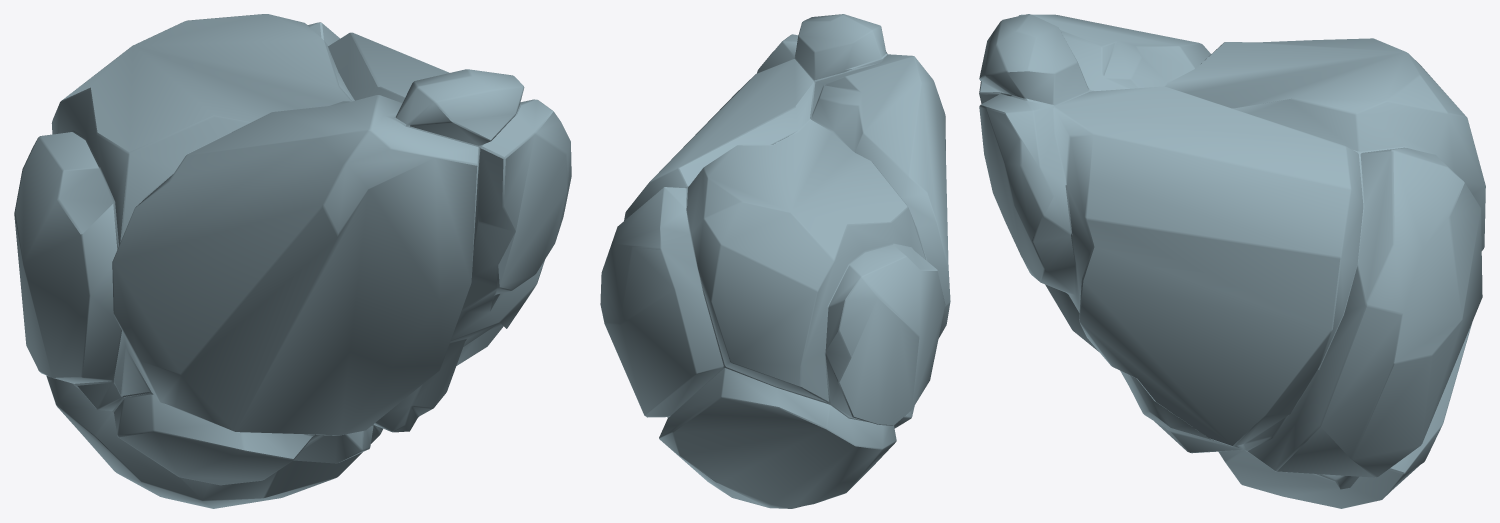
The model's file is Asteroid_03.fbx.
The picture shows the model from 3 angles, left to right: view 1: azimuth 30°, elevation 25°; view 2: azimuth 150°, elevation 25°; view 3: azimuth 270°, elevation 25°; orthographic projection. The views are drawn at different scales.
Visible parts, largest first — view 1: Asteroid_03; view 2: Asteroid_03; view 3: Asteroid_03.
Part boxes in pixels (x1=…): Asteroid_03: x1=14, y1=14, x2=571, y2=508; Asteroid_03: x1=600, y1=14, x2=950, y2=508; Asteroid_03: x1=979, y1=14, x2=1485, y2=508.
Size of the model in its own units: 165 by 198 by 182.
Materials: 1 (1 with a texture image).
